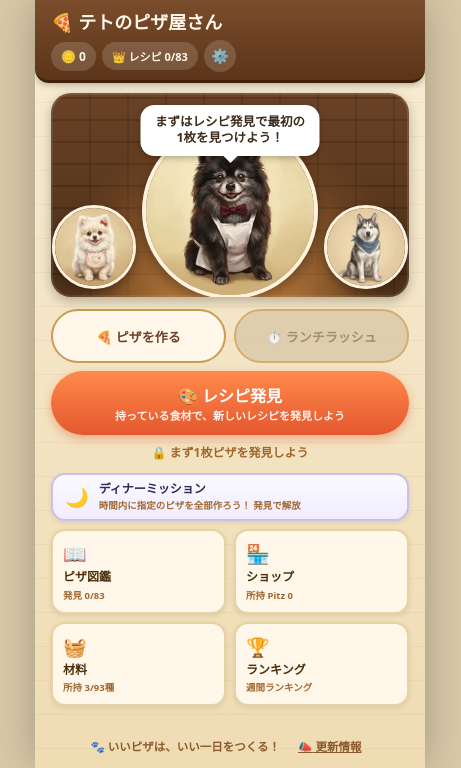
Scenario: HOME Global Overlay shell sizing (Dex/Shop/Inventory share one rule) › Shop overlay panel uses the same shared shell as Dex
Step 1. Click the button "🏪 ショップ 所持 Pitz 0" → coordinates (322, 572), box [234,529,409,614]
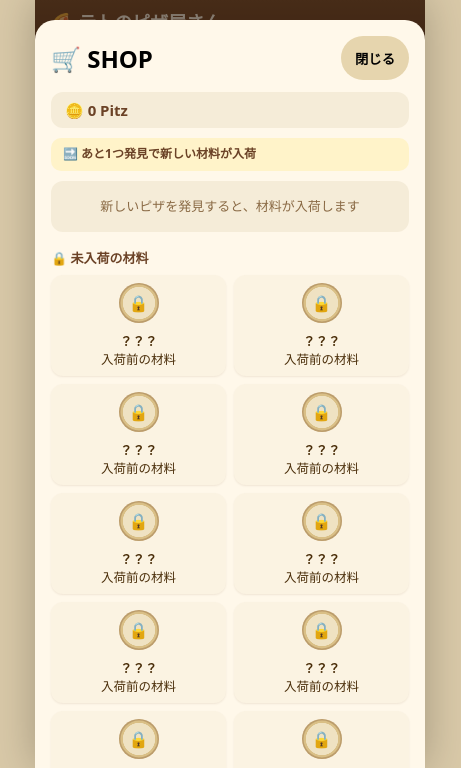
Now the element with class "dex-overlay__panel" is shown
